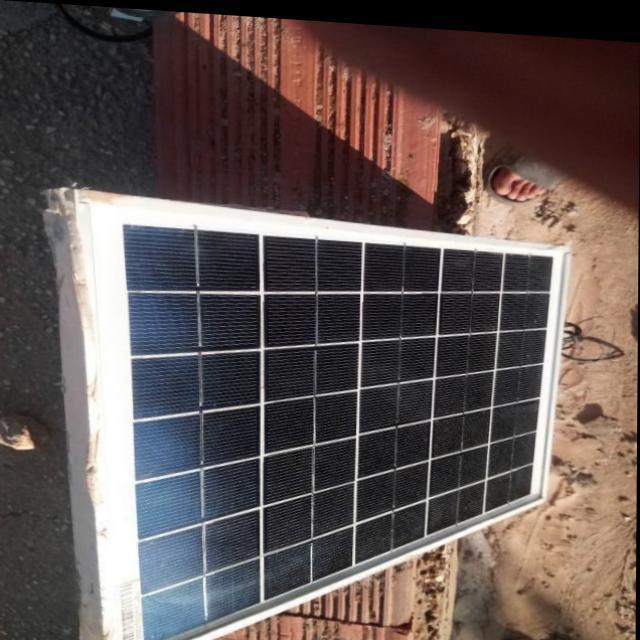Normal Solar Panel: (71, 189, 572, 640)
